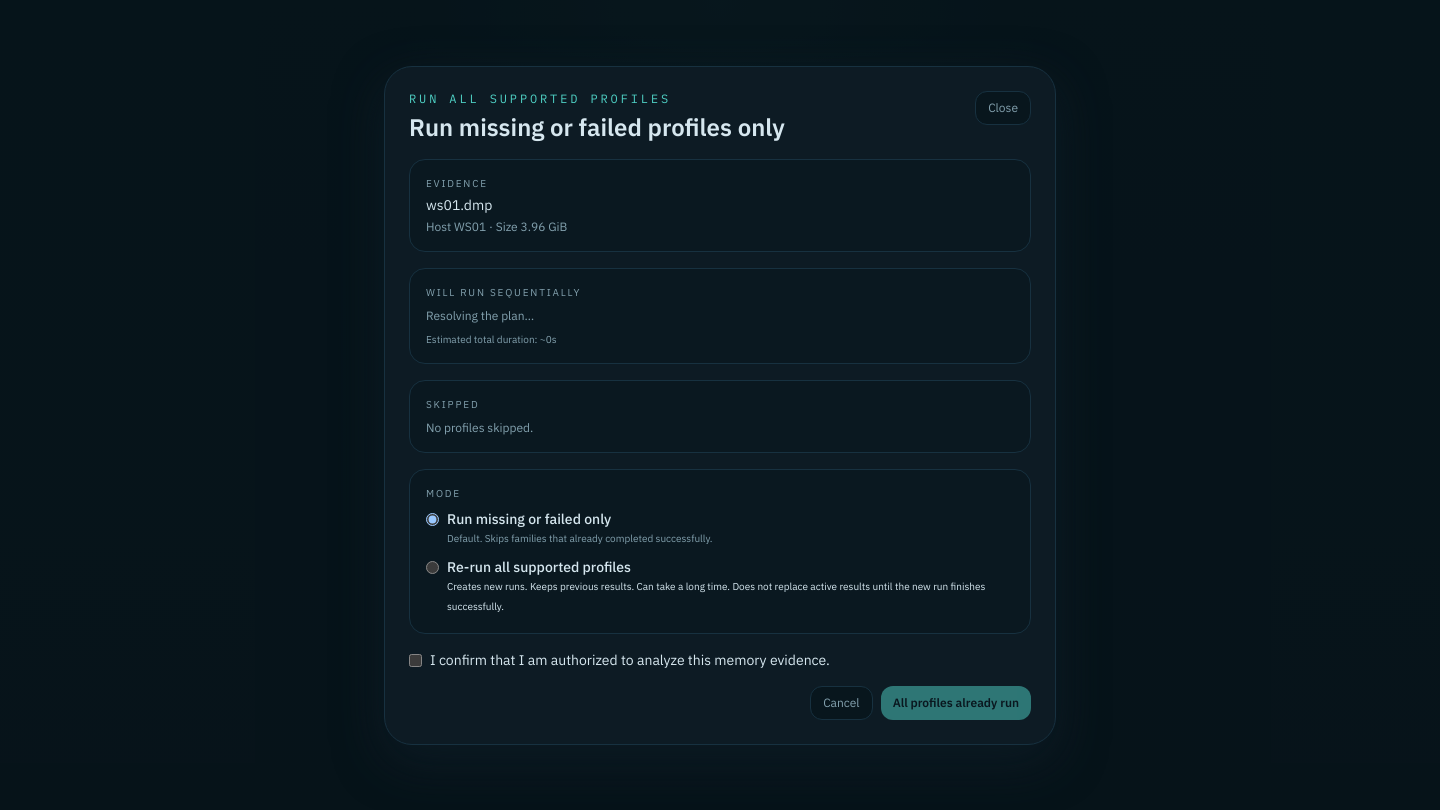
Test: Memory overview, profile catalogue and run-all › disables the Run all confirm button until the operator acknowledges
Expected: the button with test id "memory-run-all-confirm" is disabled, [881,686,1031,720]
Click the checkbox with test id "memory-run-all-ack-checkbox": (416, 660) [409,654,422,666]
(page scrolled)
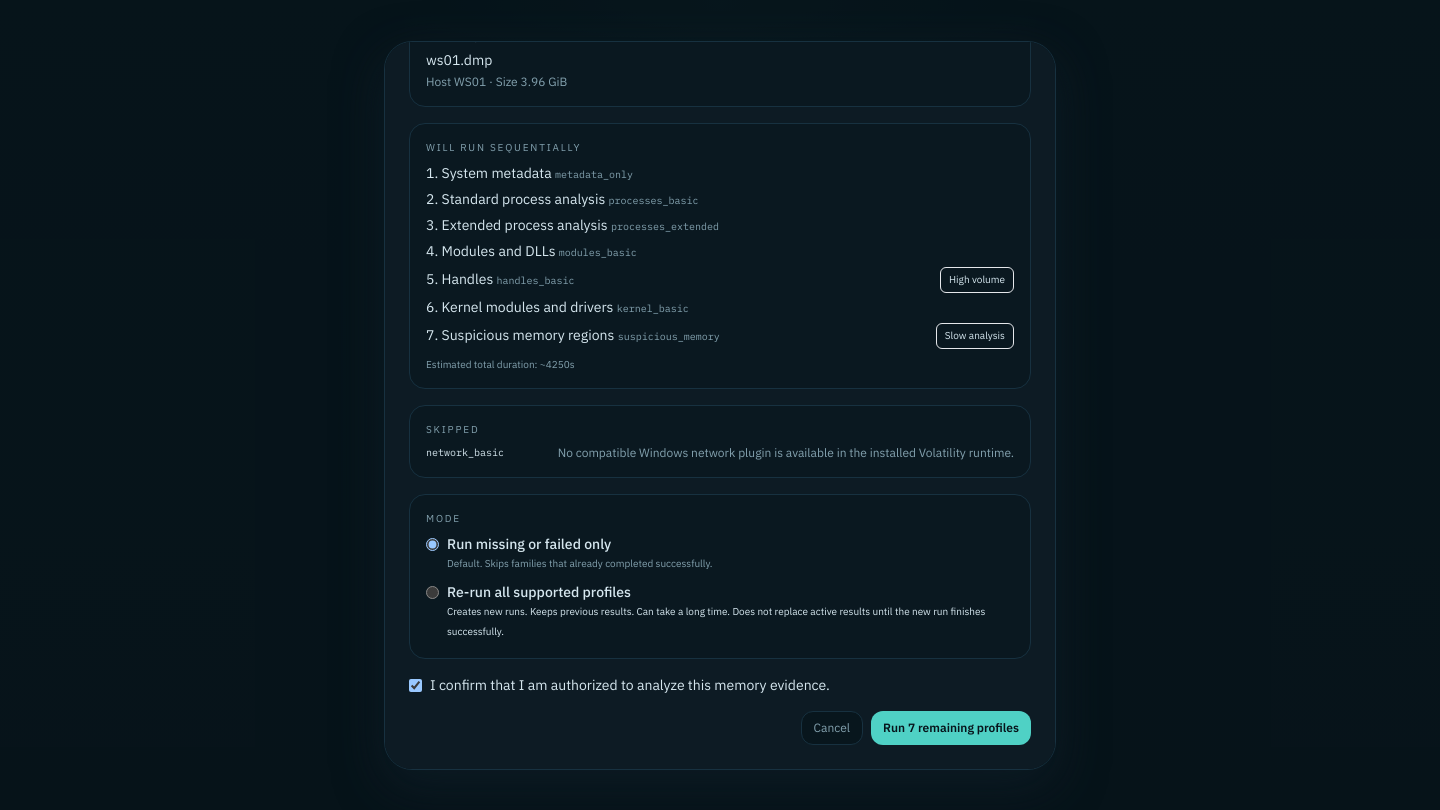
Result: the button with test id "memory-run-all-confirm" is enabled at [871,710,1031,744]
